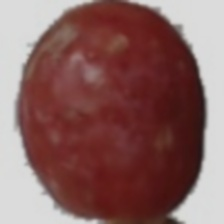grapes: (37, 58, 212, 202)
